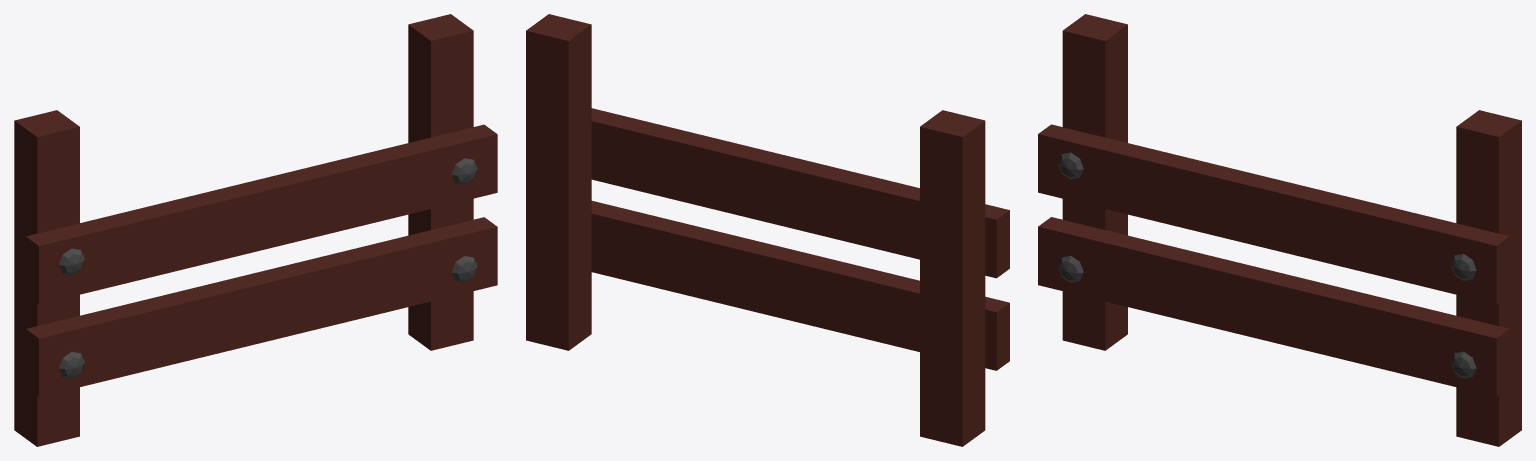
File: two_plank_fences.FBX
3 views of the same model, side by side, from view 1: azimuth 30°, elevation 25°; view 2: azimuth 150°, elevation 25°; view 3: azimuth 330°, elevation 25° (orthographic).
Visible parts, largest first — view 1: two_plank_fences; view 2: two_plank_fences; view 3: two_plank_fences.
Part boxes in pixels (x1=…): two_plank_fences: x1=14, y1=14, x2=497, y2=446; two_plank_fences: x1=526, y1=14, x2=1009, y2=446; two_plank_fences: x1=1038, y1=14, x2=1521, y2=446.
Size of the model in its own units: 1.4 by 0.901 by 0.2083.
Materials: 1 (1 with a texture image).
